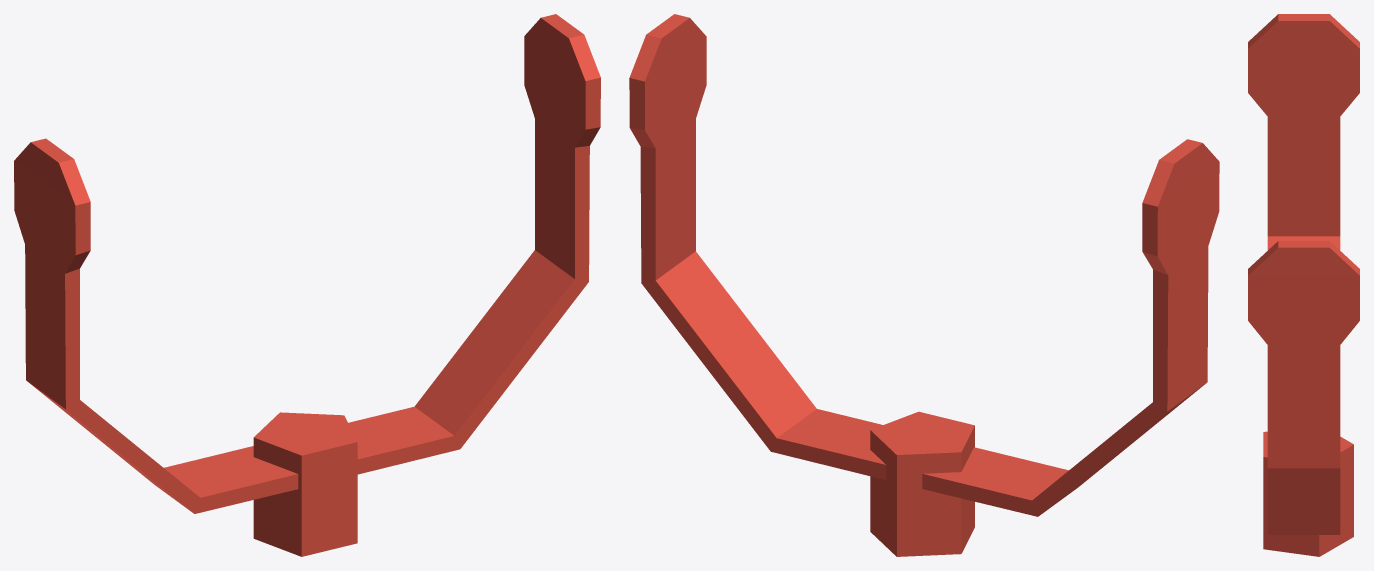
The model's file is SM_Light_Reflector_Tripod_Base.fbx.
The picture shows the model from 3 angles, left to right: view 1: azimuth 30°, elevation 25°; view 2: azimuth 150°, elevation 25°; view 3: azimuth 270°, elevation 25°; orthographic projection. The views are drawn at different scales.
Visible parts, largest first — view 1: SM_Light_Reflector_Tripod_Base; view 2: SM_Light_Reflector_Tripod_Base; view 3: SM_Light_Reflector_Tripod_Base.
Boxes of the visible parts, x1,y1,x2,y2 form: SM_Light_Reflector_Tripod_Base: (14, 14, 600, 556); SM_Light_Reflector_Tripod_Base: (629, 14, 1219, 556); SM_Light_Reflector_Tripod_Base: (1248, 14, 1359, 556).
Size of the model in its own units: 6.4 by 31.67 by 25.65.
